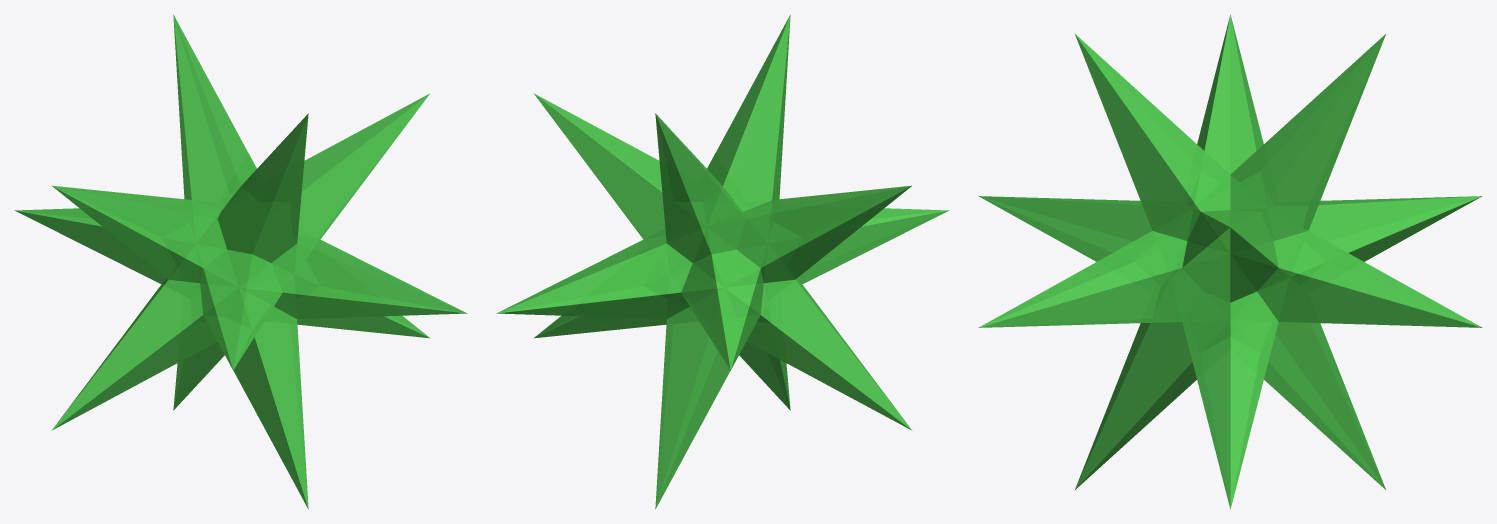
Rendered from GreatTriambicIcosahedron.obj.
The picture shows the model from 3 angles, left to right: view 1: azimuth 30°, elevation 25°; view 2: azimuth 150°, elevation 25°; view 3: azimuth 270°, elevation 25°; orthographic projection. The views are drawn at different scales.
Size of the model in its own units: 5.24 by 5.24 by 5.24.
